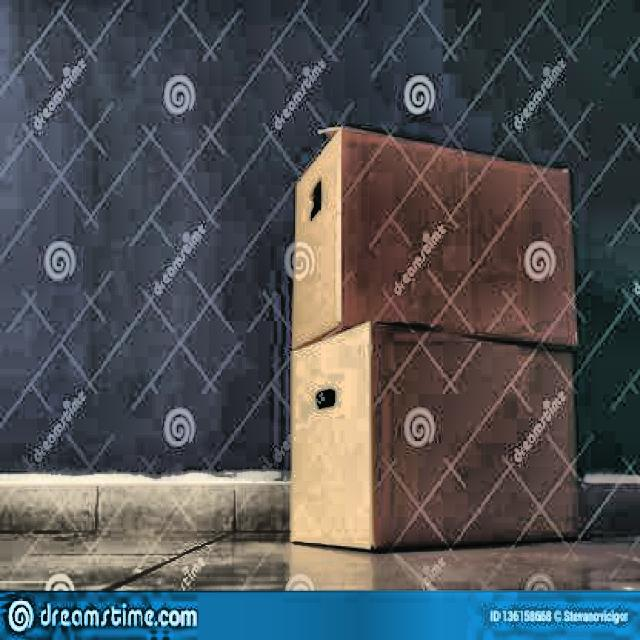Cardbox: (291, 108, 583, 578)
